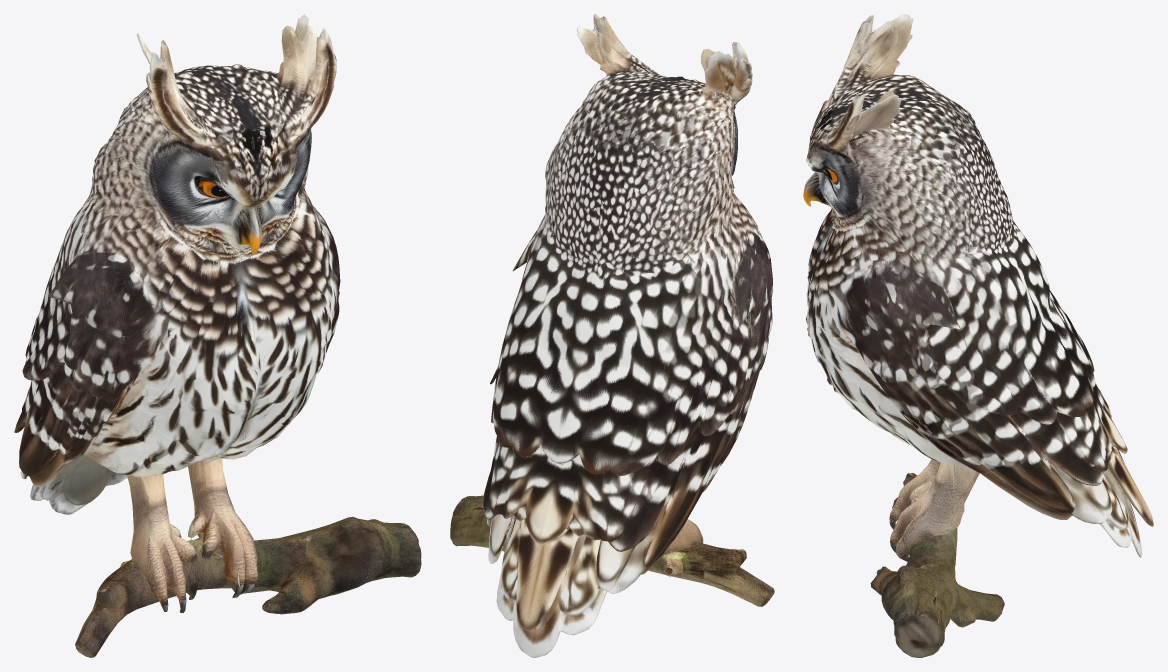
Rendered from perched-owl.glb.
The picture shows the model from 3 angles, left to right: view 1: azimuth 30°, elevation 25°; view 2: azimuth 150°, elevation 25°; view 3: azimuth 270°, elevation 25°; orthographic projection. The views are drawn at different scales.
Bounding box in the file's own units: 1.07 × 1.9 × 1.11.
Materials: 1 (1 with a texture image).
